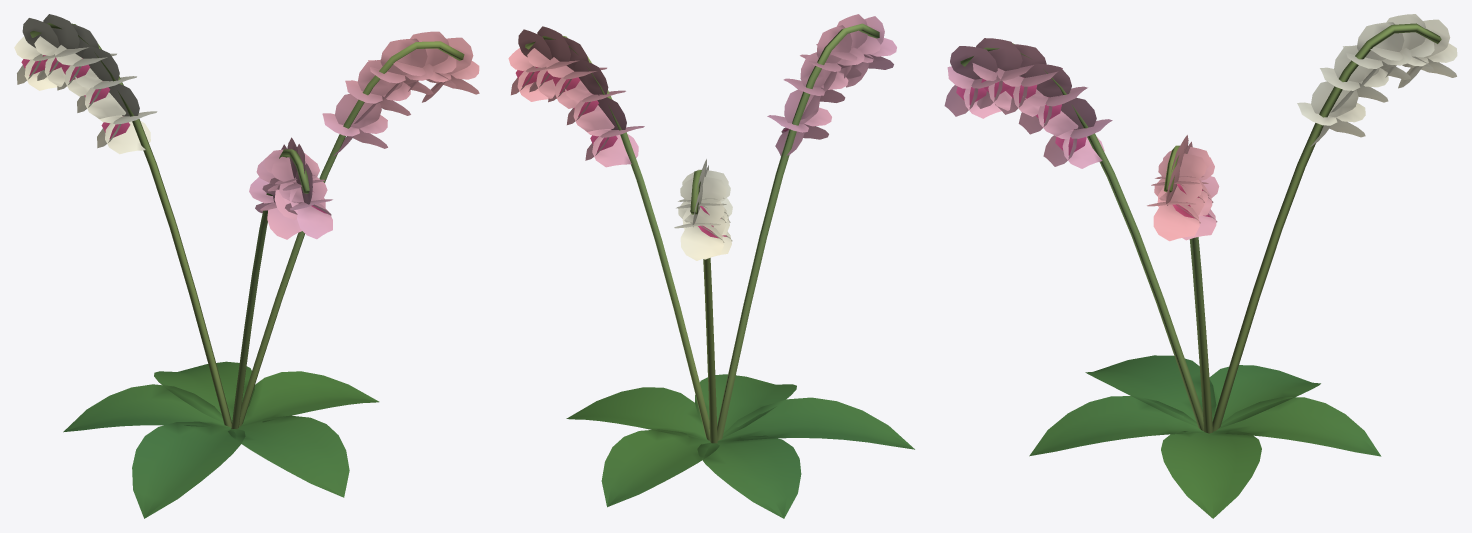
File: orchid.glb
3 views of the same model, side by side, from view 1: azimuth 30°, elevation 25°; view 2: azimuth 150°, elevation 25°; view 3: azimuth 270°, elevation 25° (orthographic). The views are drawn at different scales.
Parts seen in each view (by area): view 1: orchid; view 2: orchid; view 3: orchid.
Boxes of the visible parts, <box> form: orchid: <box>14,14,479,518</box>; orchid: <box>508,14,914,518</box>; orchid: <box>944,14,1457,518</box>.
Size of the model in its own units: 0.7863 by 0.7701 by 0.9121.
